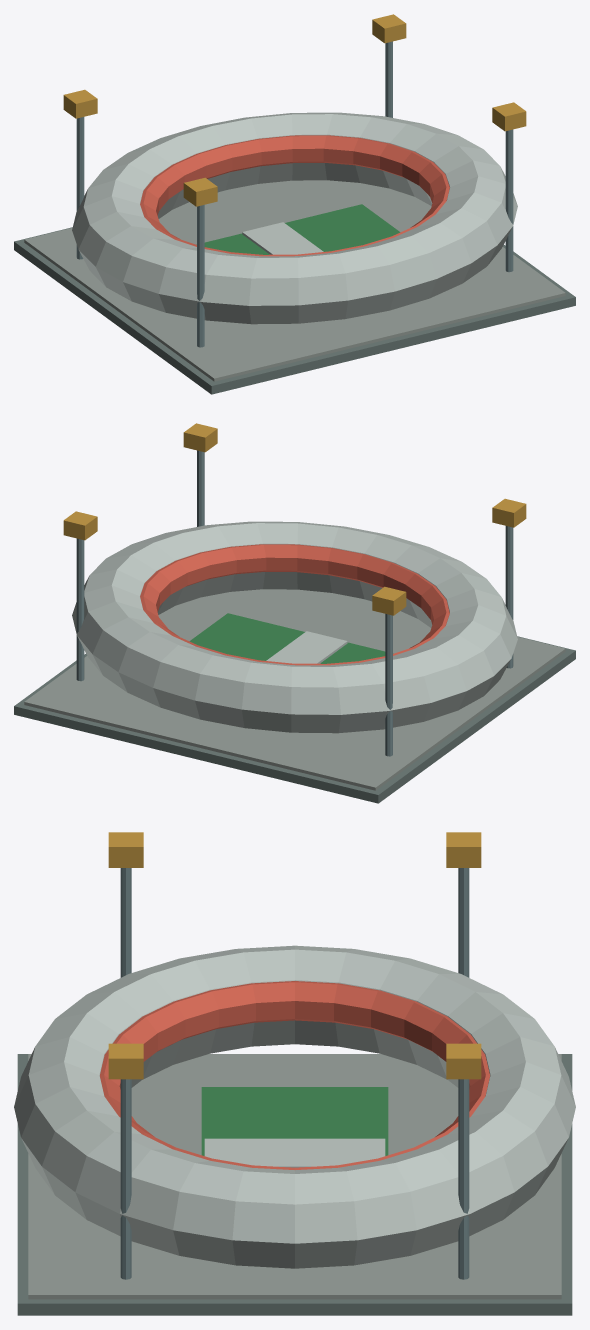
File: stadium_lv1.glb
3 views of the same model, one above another, from view 1: azimuth 30°, elevation 25°; view 2: azimuth 150°, elevation 25°; view 3: azimuth 270°, elevation 25° (orthographic). The views are drawn at different scales.
Parts seen in each view (by area): view 1: rough, metallic; view 2: rough, metallic; view 3: rough, metallic.
Boxes of the visible parts, bbox=[...] form: rough: bbox=[14, 14, 575, 394]; metallic: bbox=[76, 41, 513, 347]; rough: bbox=[14, 423, 575, 803]; metallic: bbox=[76, 450, 513, 756]; rough: bbox=[14, 832, 575, 1315]; metallic: bbox=[120, 868, 469, 1279].
Size of the model in its own units: 10.72 by 4.49 by 9.32.
